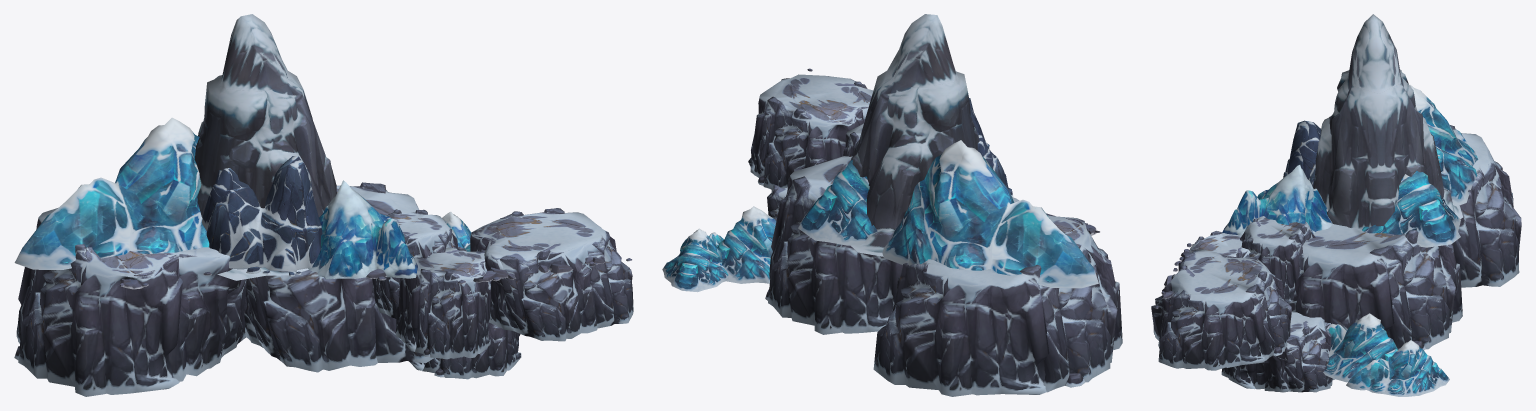
Rendered from yanshi12_1.fbx.
3 renders of one model, left to right at view 1: azimuth 30°, elevation 25°; view 2: azimuth 150°, elevation 25°; view 3: azimuth 270°, elevation 25°, orthographic. The views are drawn at different scales.
Visible parts, largest first — view 1: yanshi12_1; view 2: yanshi12_1; view 3: yanshi12_1.
Part boxes in pixels (bbox=[...]): yanshi12_1: bbox=[14, 14, 633, 396]; yanshi12_1: bbox=[662, 14, 1122, 396]; yanshi12_1: bbox=[1151, 14, 1521, 396].
Bounding box in the file's own units: 4673 × 3120 × 3630.
